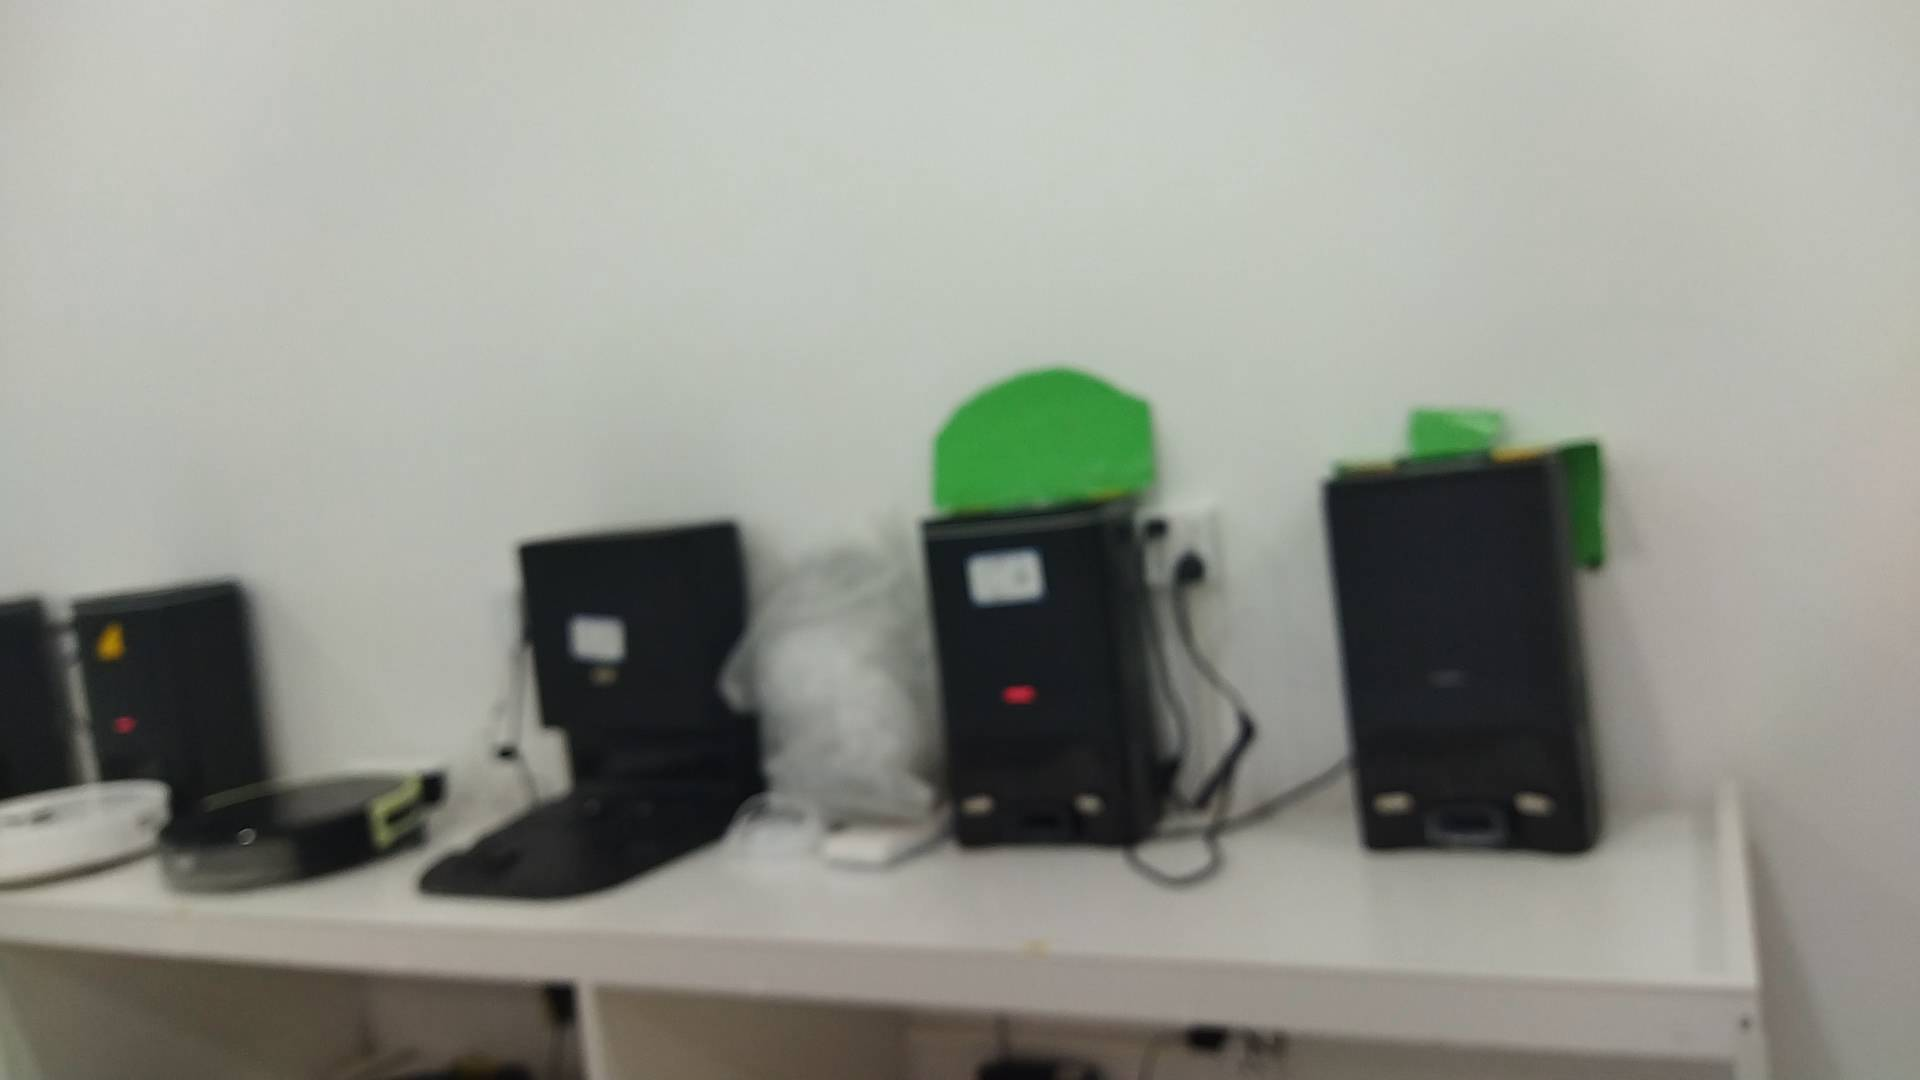dust collecting barrel: (410, 518, 762, 899), (1325, 450, 1600, 856), (923, 495, 1162, 849), (73, 578, 266, 840)
